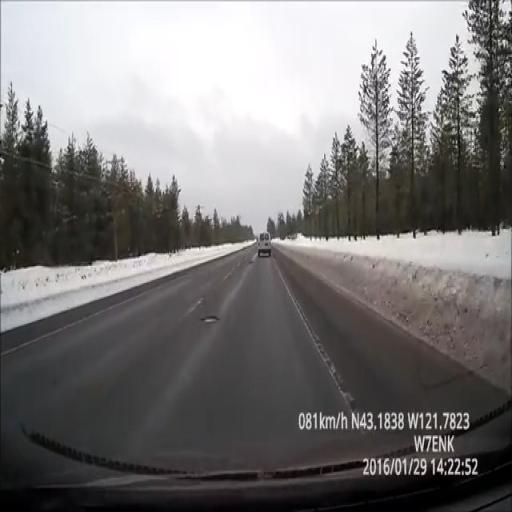Potholes: (202, 314, 218, 321)
